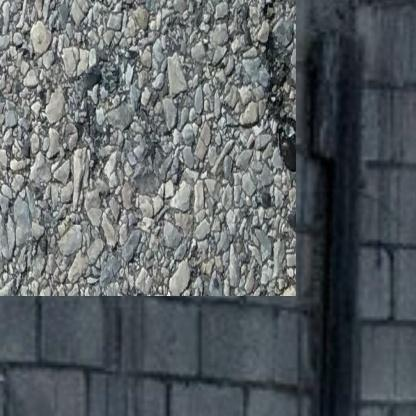Cracks: (240, 0, 274, 159)
